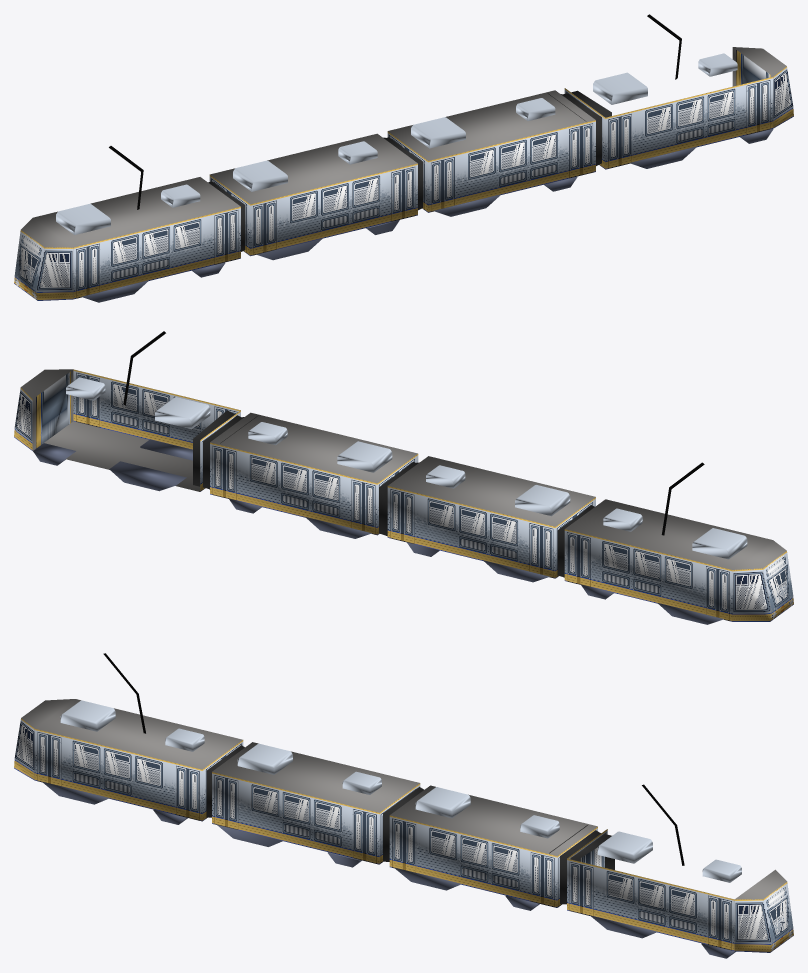
File: Tren part.fbx
The picture shows the model from 3 angles, top to bottom: view 1: azimuth 30°, elevation 25°; view 2: azimuth 150°, elevation 25°; view 3: azimuth 330°, elevation 25°; orthographic projection.
Visible parts, largest first — view 1: Antenna.002; view 2: Antenna.002; view 3: Antenna.002.
Part boxes in pixels (bbox=[...]): Antenna.002: bbox=[14, 14, 793, 302]; Antenna.002: bbox=[14, 331, 793, 624]; Antenna.002: bbox=[14, 653, 793, 958].
Bounding box in the file's own units: 5488 × 953 × 522.
5 materials, 1 textured.
